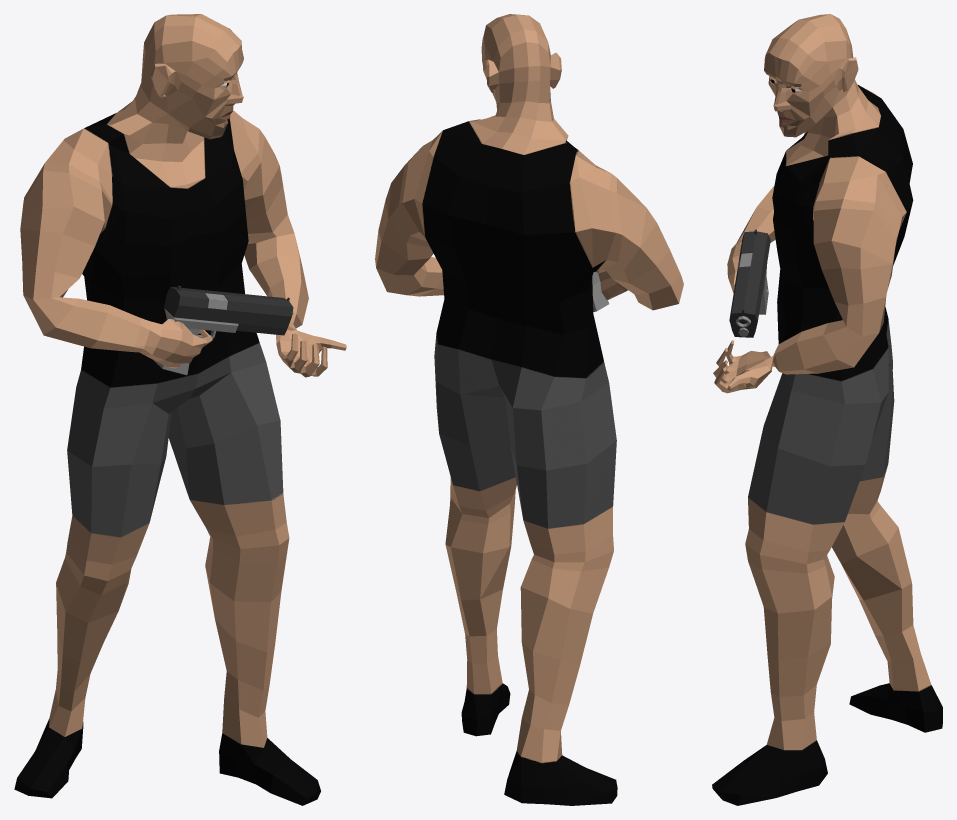
File: PlayerIdle(160).obj
3 views of the same model, side by side, from view 1: azimuth 30°, elevation 25°; view 2: azimuth 150°, elevation 25°; view 3: azimuth 270°, elevation 25° (orthographic). The views are drawn at different scales.
Visible parts, largest first — view 1: Plane002, Box003; view 2: Plane002; view 3: Plane002, Box003.
Boxes of the visible parts, x1,y1,x2,y2 form: Plane002: (14,14,346,805); Box003: (153,285,293,375); Plane002: (375,14,683,805); Plane002: (712,14,942,805); Box003: (729,229,770,337).
Size of the model in its own units: 709 by 1793 by 504.
